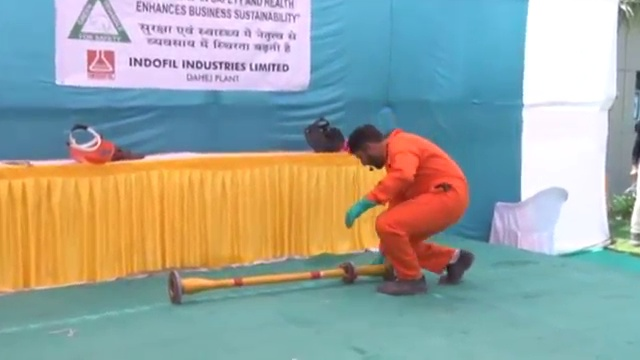helmet_off: (344, 122, 389, 172)
person: (338, 118, 473, 294), (628, 117, 640, 245)
